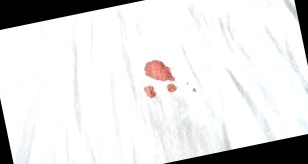blood: (141, 58, 179, 99)
